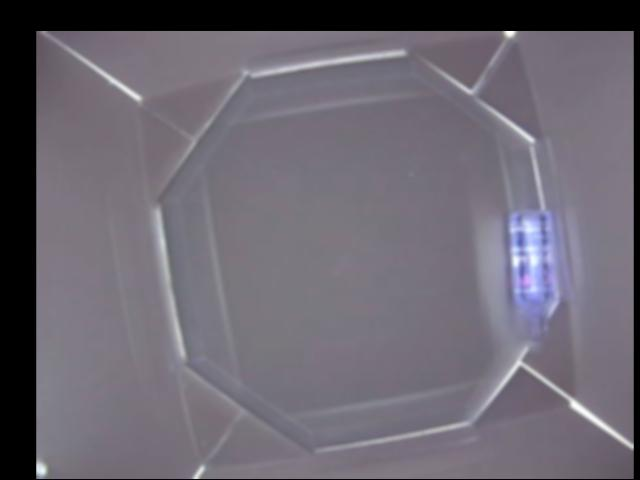Bottle: (503, 210, 560, 346)
